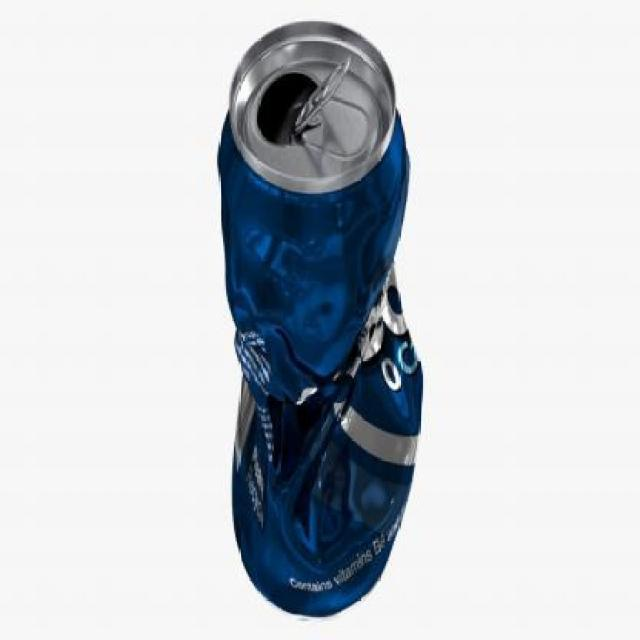can: (210, 11, 432, 624)
